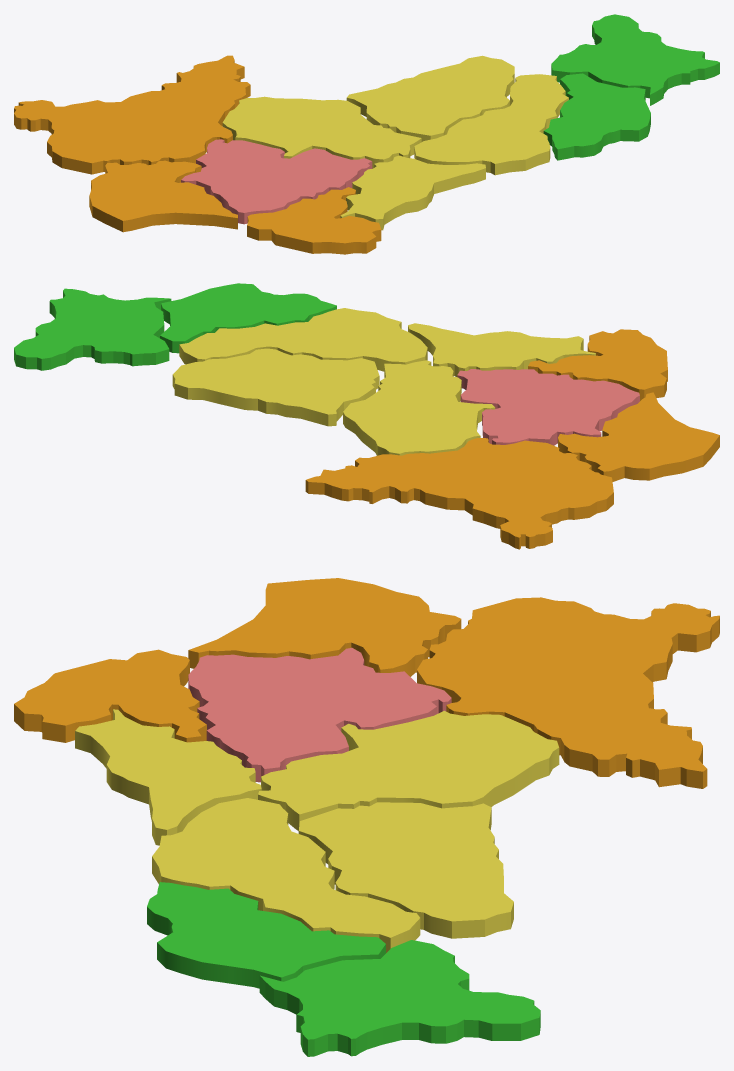
The model's file is Campaign_map_no_height.glb.
3 views of the same model, one above another, from view 1: azimuth 30°, elevation 25°; view 2: azimuth 150°, elevation 25°; view 3: azimuth 270°, elevation 25° (orthographic). The views are drawn at different scales.
Visible parts, largest first — view 1: Badajoz.001, Sevilla.002, Cordoba.002, Jaen.002, Granada.002, Huelva.002, Murcia.001, Almeria.002, Cadiz.002, Malaga.002; view 2: Badajoz.001, Jaen.002, Sevilla.002, Cordoba.002, Murcia.001, Granada.002, Huelva.002, Almeria.002, Malaga.002, Cadiz.002; view 3: Badajoz.001, Cordoba.002, Sevilla.002, Jaen.002, Murcia.001, Granada.002, Huelva.002, Almeria.002, Malaga.002, Cadiz.002.
Part boxes in pixels (x1,y1,x2,y2): Badajoz.001: (14, 55, 250, 174); Sevilla.002: (181, 139, 372, 224); Cordoba.002: (222, 96, 421, 168); Jaen.002: (346, 55, 514, 141); Granada.002: (414, 74, 568, 175); Huelva.002: (89, 160, 237, 232); Murcia.001: (551, 14, 719, 105); Almeria.002: (543, 73, 650, 160); Cadiz.002: (247, 187, 381, 254); Malaga.002: (340, 155, 485, 230); Badajoz.001: (305, 438, 613, 549); Jaen.002: (172, 348, 379, 426); Sevilla.002: (457, 369, 639, 445); Cordoba.002: (343, 360, 495, 455); Murcia.001: (14, 288, 171, 370); Granada.002: (179, 308, 427, 371); Huelva.002: (558, 392, 719, 481); Almeria.002: (160, 283, 336, 353); Malaga.002: (408, 323, 595, 376); Cadiz.002: (528, 329, 667, 400); Badajoz.001: (417, 597, 719, 788); Cordoba.002: (258, 710, 559, 830); Sevilla.002: (188, 647, 451, 782); Jaen.002: (298, 802, 513, 938); Murcia.001: (259, 940, 540, 1056); Granada.002: (152, 798, 420, 952); Huelva.002: (188, 578, 461, 676); Almeria.002: (147, 882, 385, 988); Malaga.002: (75, 709, 261, 845); Cadiz.002: (14, 649, 206, 742).
Bounding box in the file's own units: 5.42 × 0.0956 × 3.51.
